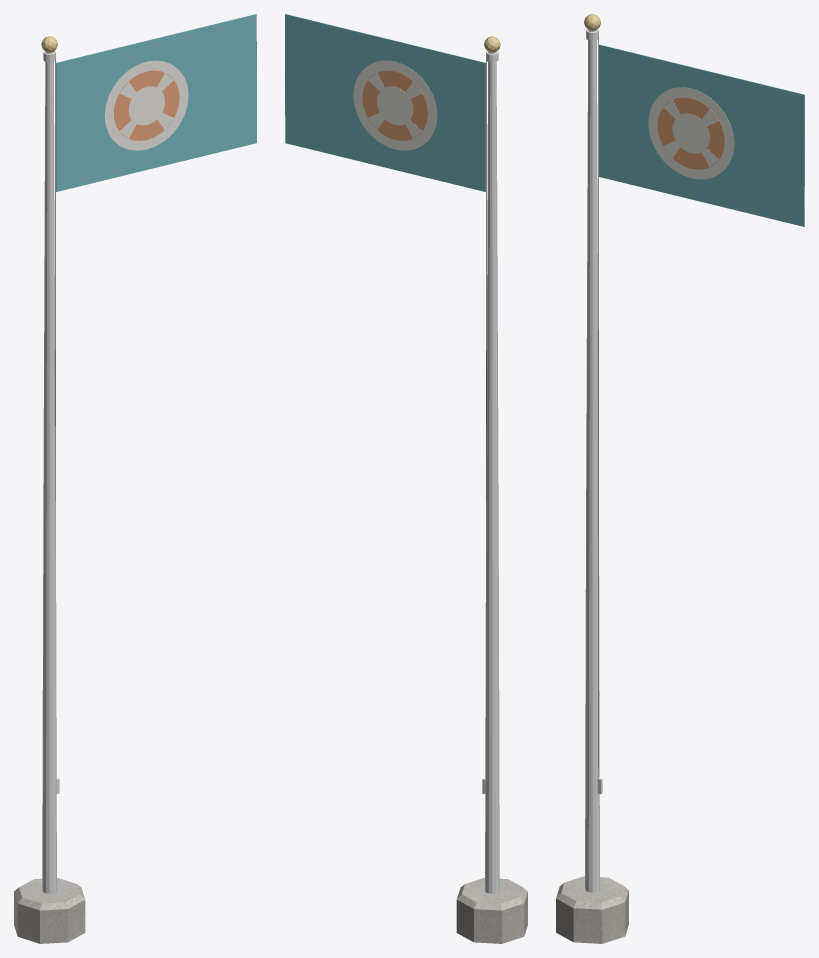
File: flagpole.glb
The picture shows the model from 3 angles, left to right: view 1: azimuth 30°, elevation 25°; view 2: azimuth 150°, elevation 25°; view 3: azimuth 330°, elevation 25°; orthographic projection. The views are drawn at different scales.
Parts seen in each view (by area): view 1: flagpole_board, flagpole_chrome, flagpole_white_u, flagpole_concrete, flagpole_orange_u; view 2: flagpole_board, flagpole_chrome, flagpole_white_u, flagpole_concrete, flagpole_orange_u; view 3: flagpole_board, flagpole_chrome, flagpole_white_u, flagpole_concrete, flagpole_orange_u, flagpole_dark.
Boxes of the visible parts, box(x1,y1,x2,y2) form: flagpole_board: box(56, 14, 256, 191); flagpole_chrome: box(42, 51, 59, 893); flagpole_white_u: box(104, 60, 188, 150); flagpole_concrete: box(14, 878, 85, 943); flagpole_orange_u: box(114, 70, 179, 140); flagpole_board: box(285, 14, 485, 191); flagpole_chrome: box(482, 51, 499, 893); flagpole_white_u: box(353, 60, 437, 150); flagpole_concrete: box(456, 878, 527, 943); flagpole_orange_u: box(362, 70, 427, 140); flagpole_board: box(599, 44, 804, 226); flagpole_chrome: box(585, 29, 602, 892); flagpole_white_u: box(648, 87, 734, 179); flagpole_concrete: box(556, 876, 628, 943); flagpole_orange_u: box(657, 97, 724, 169); flagpole_dark: box(598, 37, 598, 777).
Size of the model in its own units: 2.62 by 9.34 by 0.7.
7 materials, 1 textured.
